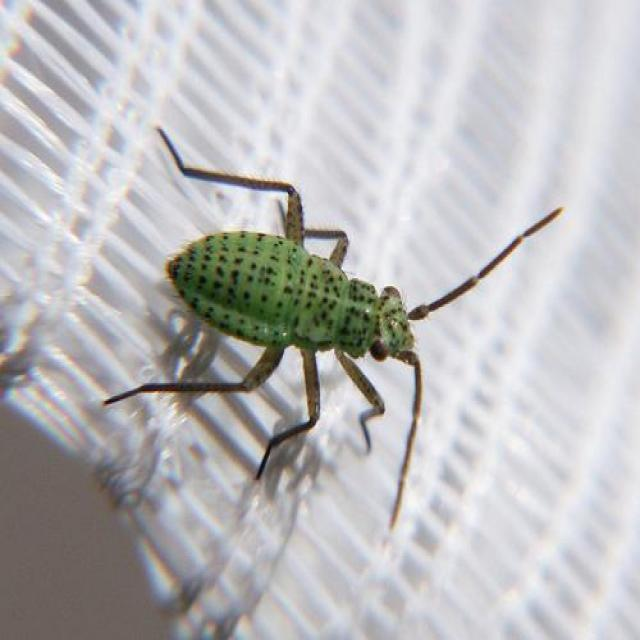Miridae-Adult-: (97, 125, 578, 508)
